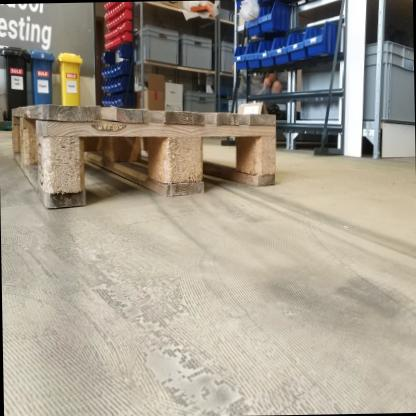BoxFace: (7, 100, 282, 222)
